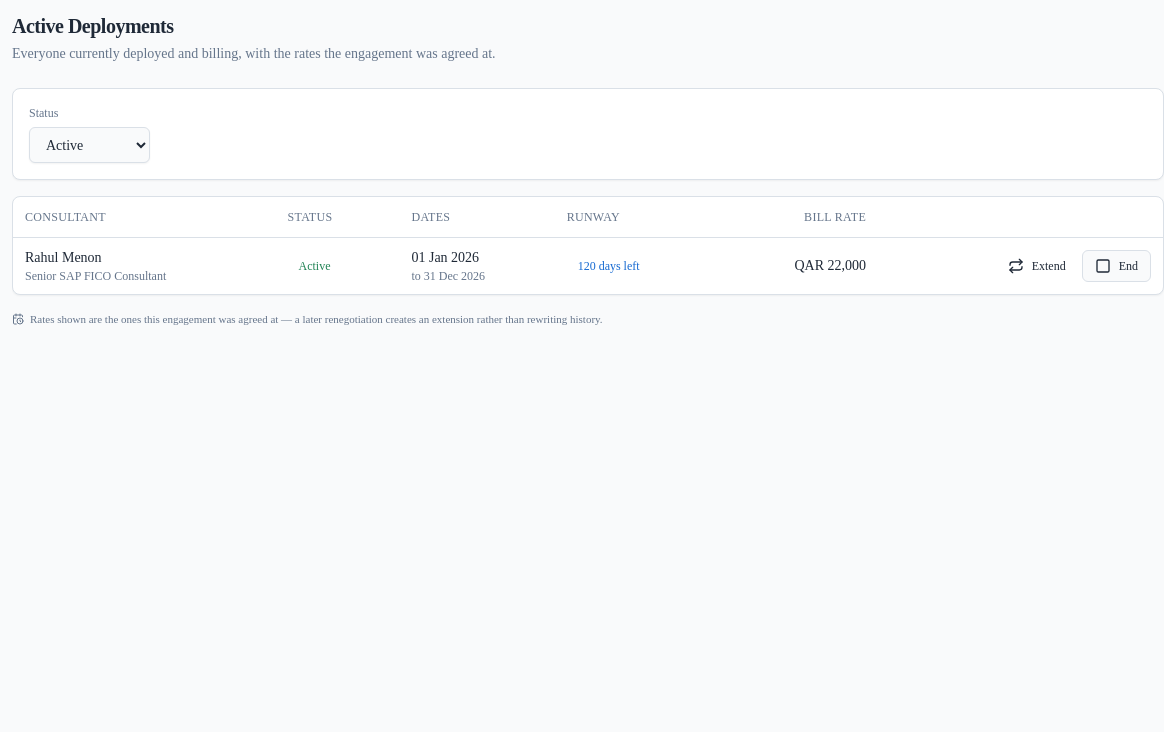
it: deployments screen › explains that extending creates a linked deployment
This screenshot has width=1164, height=732.
Click the button "Extend" at (1037, 266), box [996,250,1078,282]
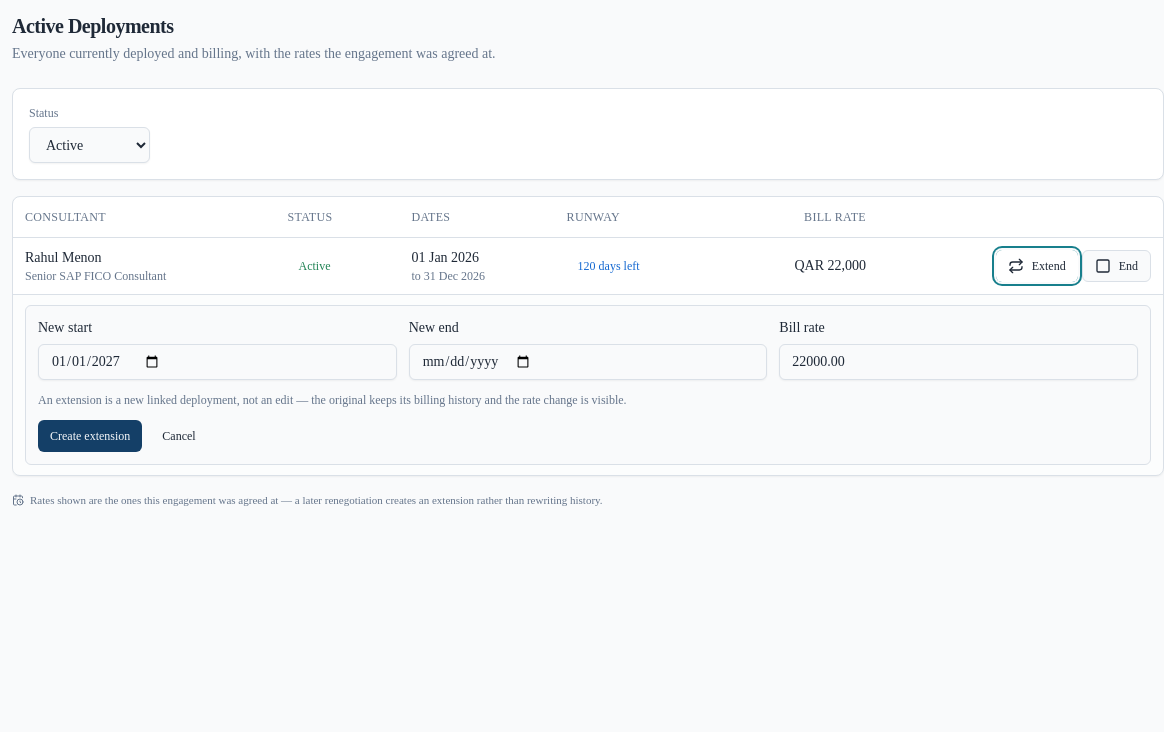
Now the text "not an edit" is shown, box [38,392,626,406]
